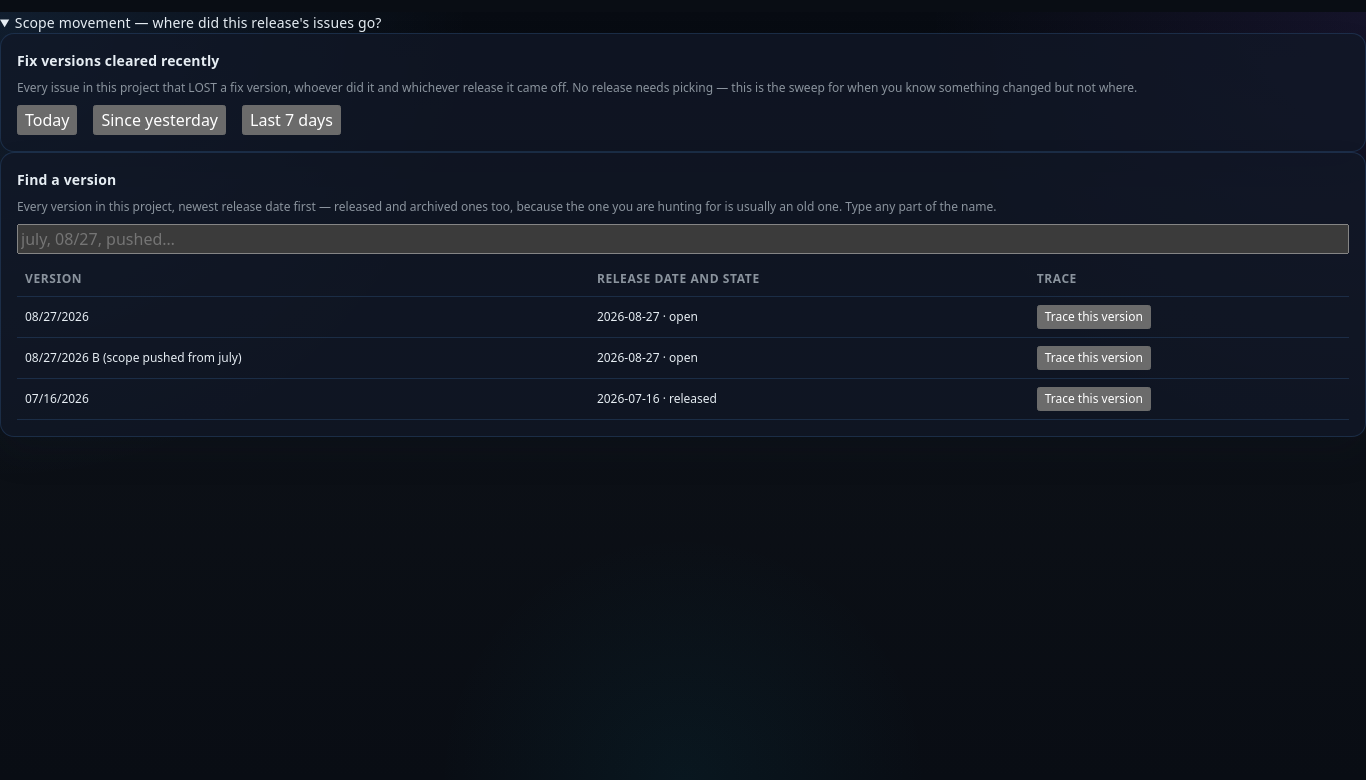
Test case: VersionMovementPanel — tracing what left › says plainly when nothing has left
Step 1. Click the 1st button "Trace this version" → (1094, 317), box [1037, 305, 1151, 329]
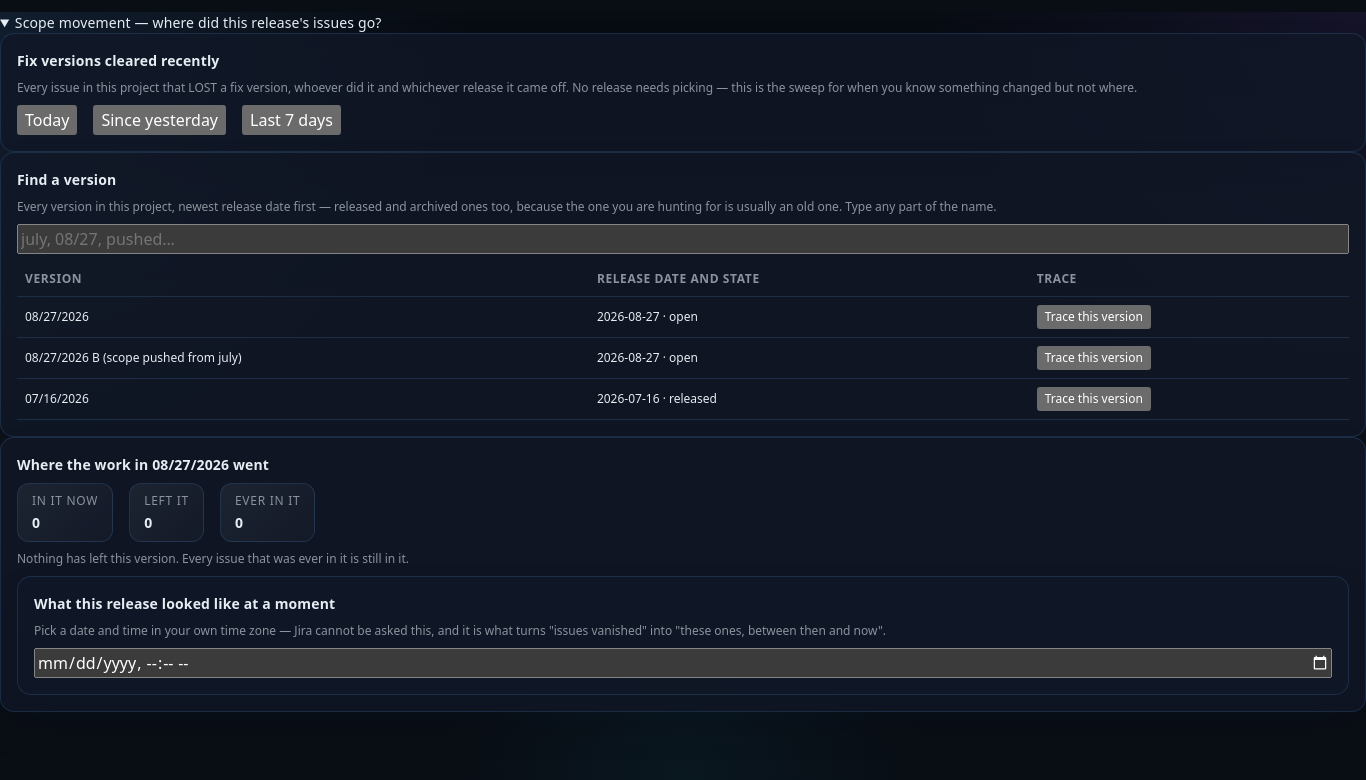
Expected: the text "Nothing has left this version. Every issue that was ever in it is still in it." is shown, [17, 550, 409, 567]
